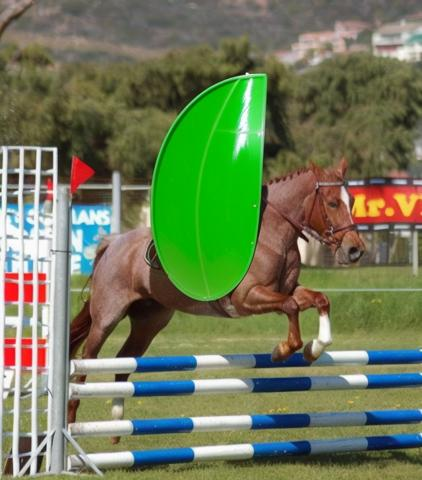horse: (64, 159, 367, 446)
pottedplant: (149, 71, 267, 303)
